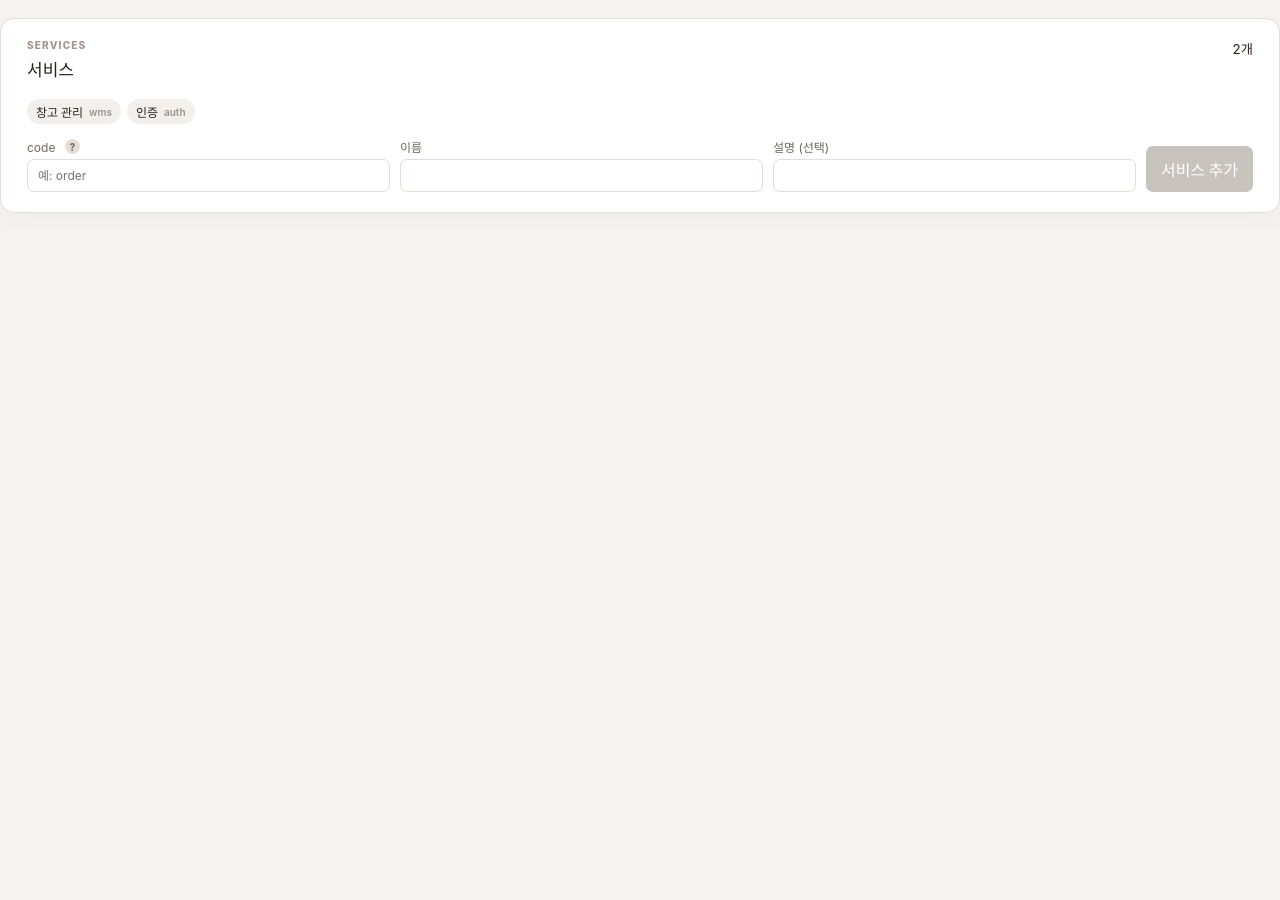
Test: AudiencePanel › 추가하기 전에 삭제할 수 없고 code도 바꿀 수 없다는 경고를 모달로 보여준다
Type "order" into the field labelled "code" at (208, 176), box [27,159,390,192]
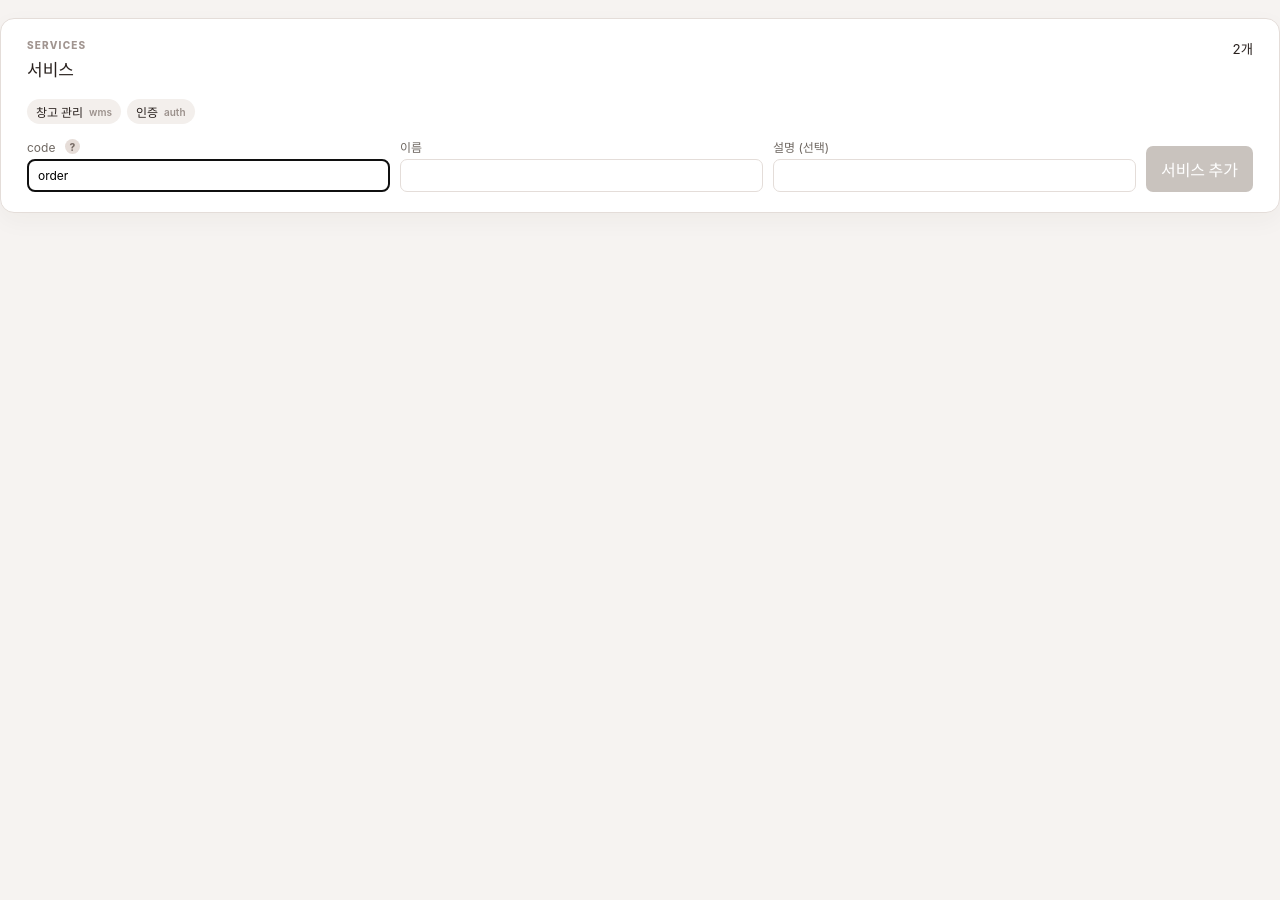
Type "주문" into the field labelled "이름" at (582, 176), box [400,159,763,192]
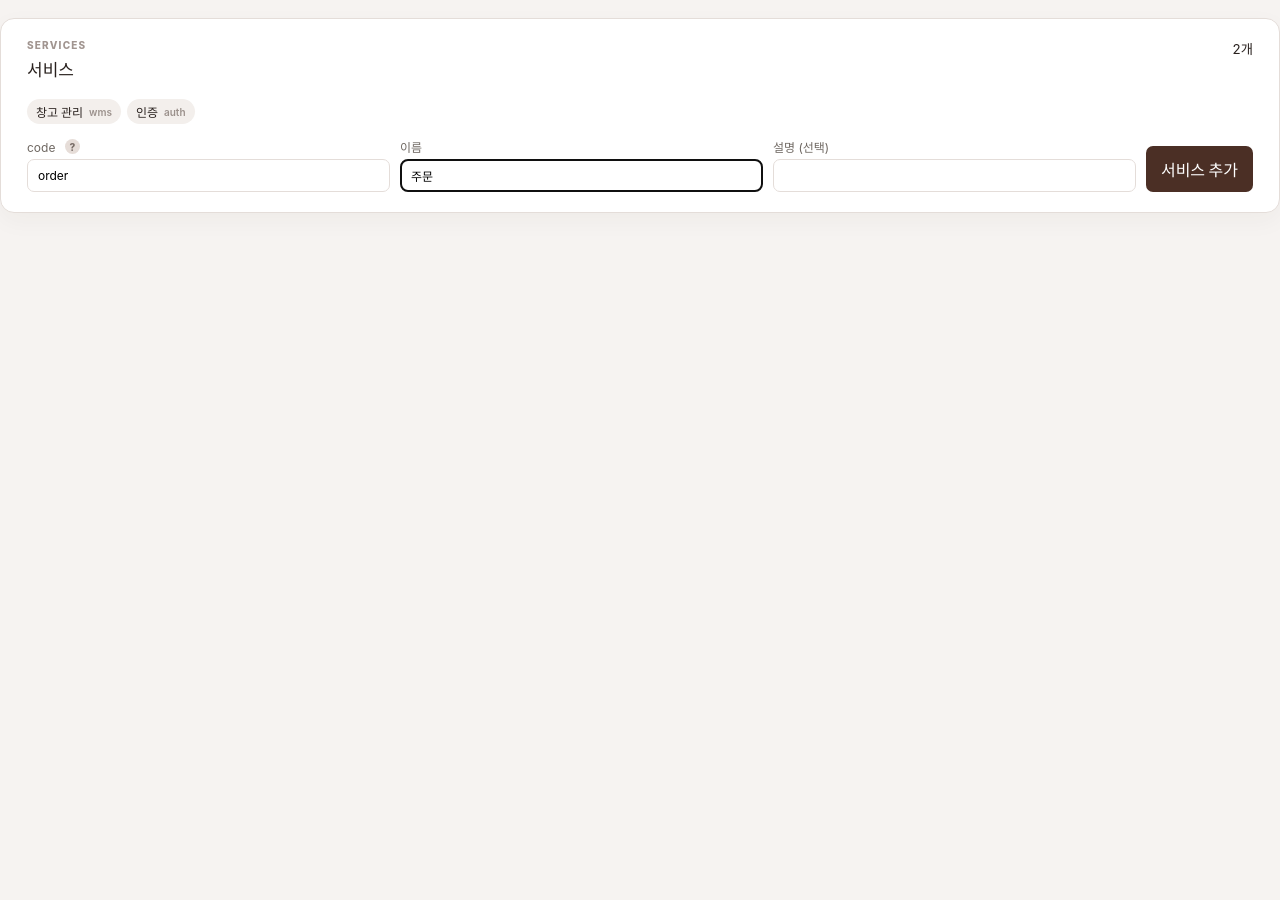
Click the button "서비스 추가" at (1199, 169), box [1146,146,1253,192]
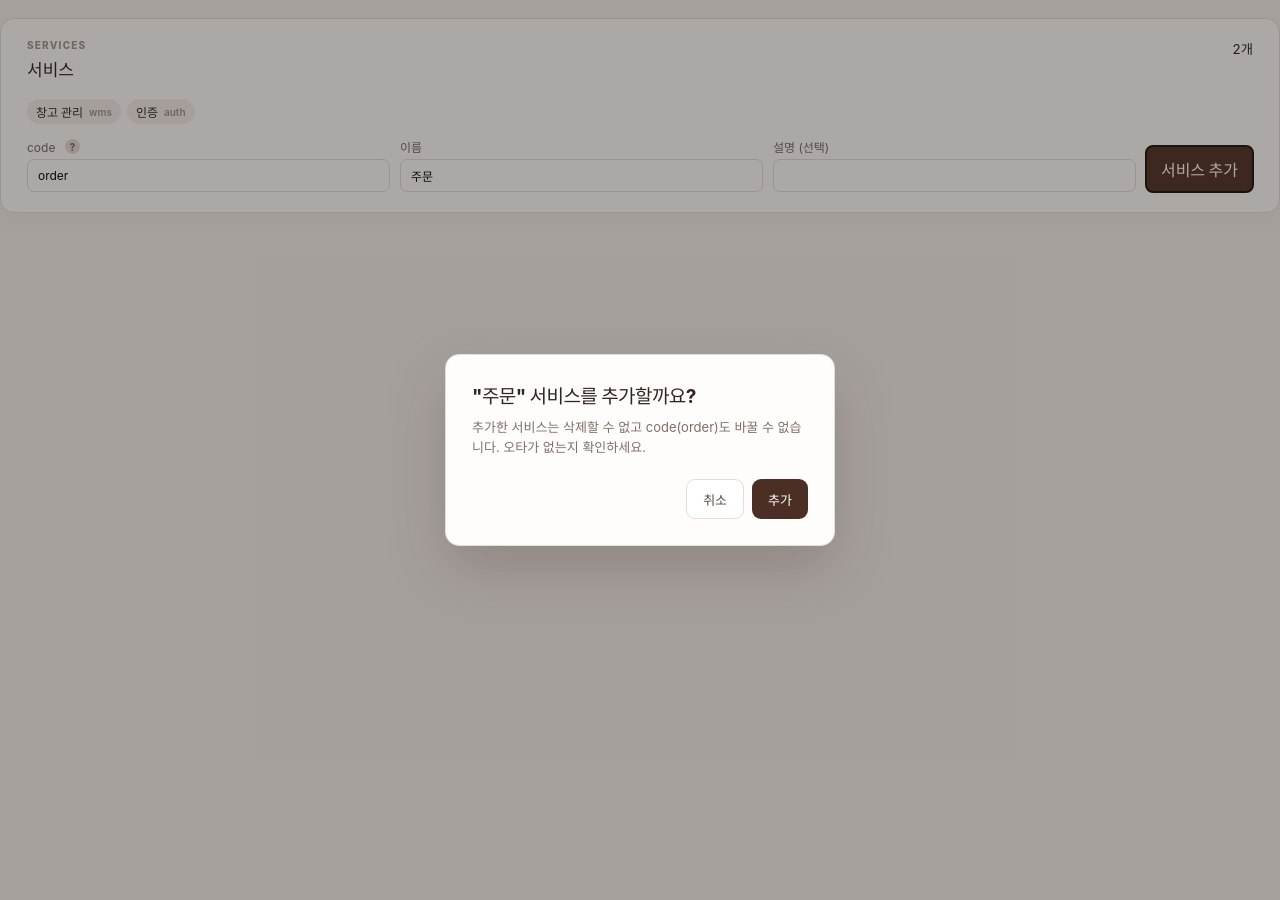
Expected: the dialog "\"주문\" 서비스를 추가할까요?" shows "삭제할 수 없고 code(order)도 바꿀 수 없습니다", [472,419,802,455]
